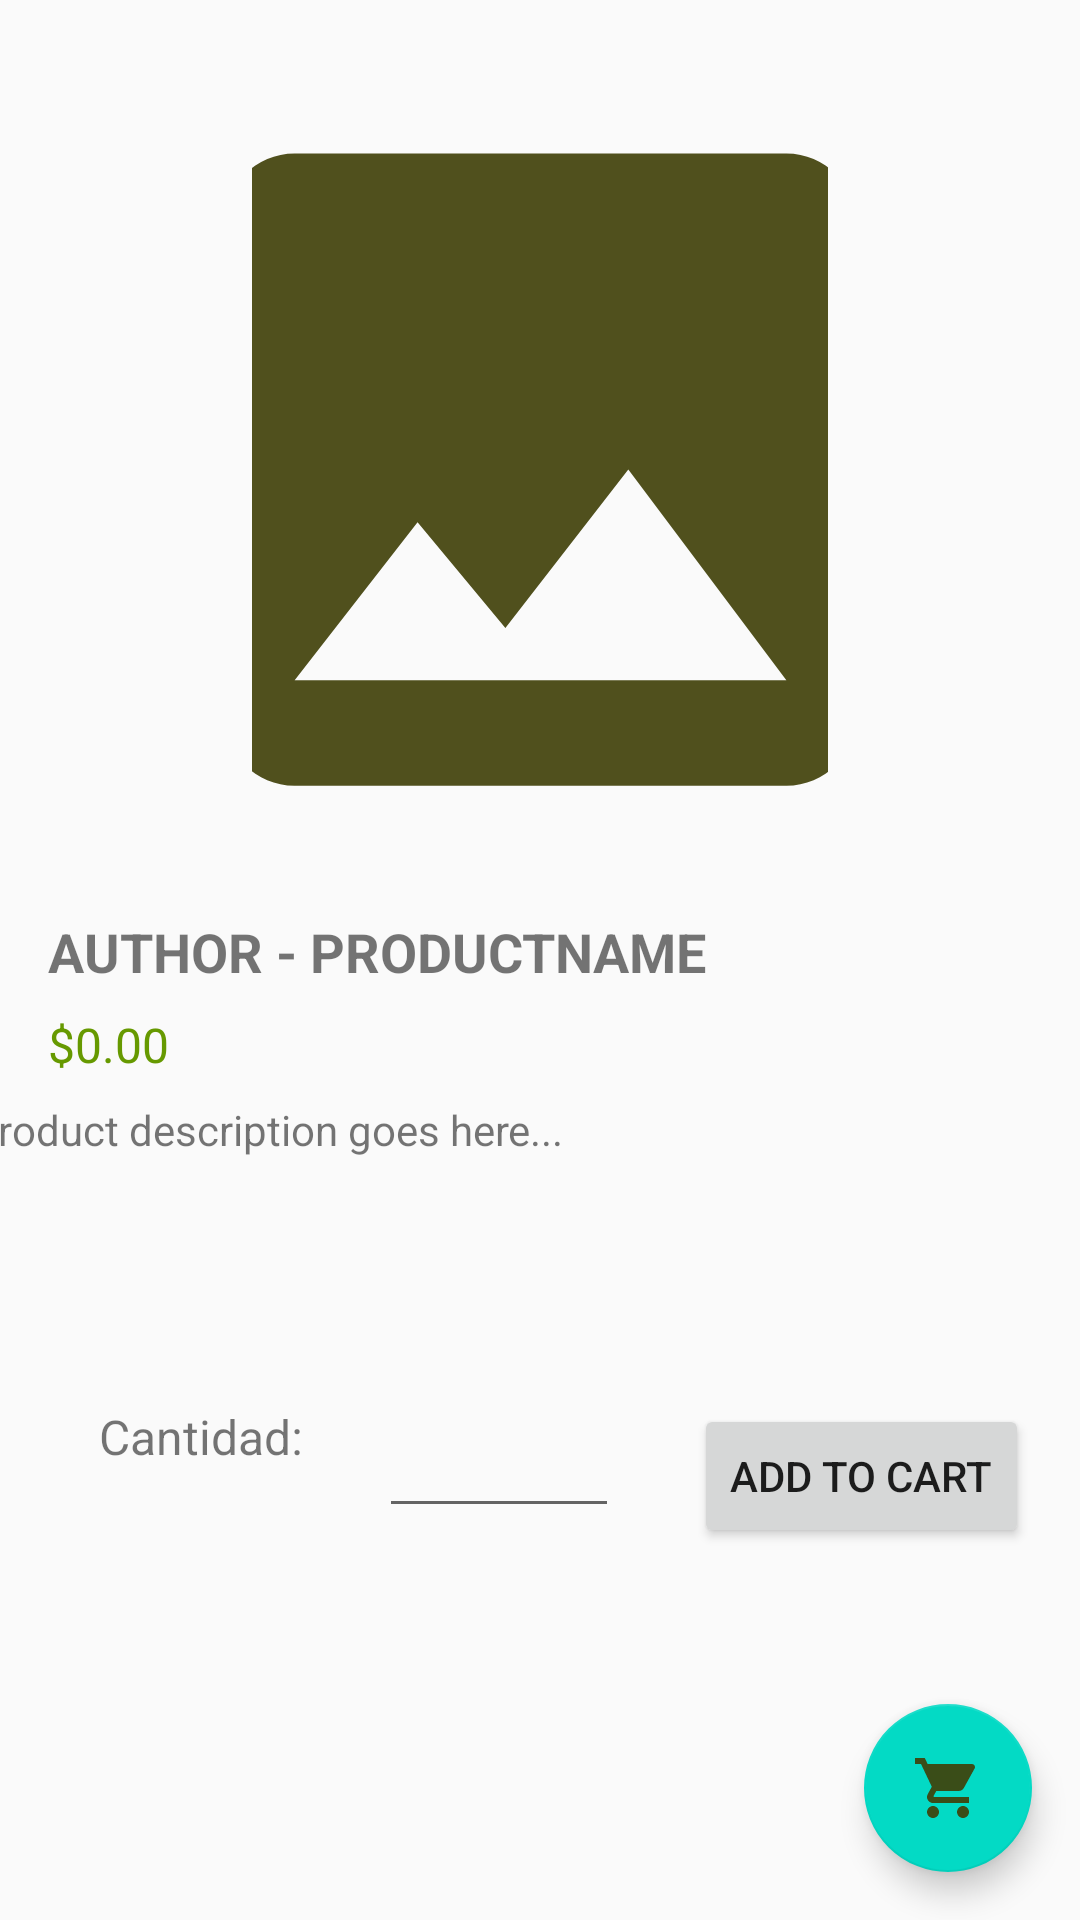

Screen size 1080×1920. Icon name, then its center in pixels as point (x, y):
Cart: point (948, 1788)
